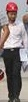boots: (0, 97, 7, 102), (0, 99, 7, 102)
gloves: (0, 56, 5, 73)
hard-hat: (5, 0, 17, 11)
